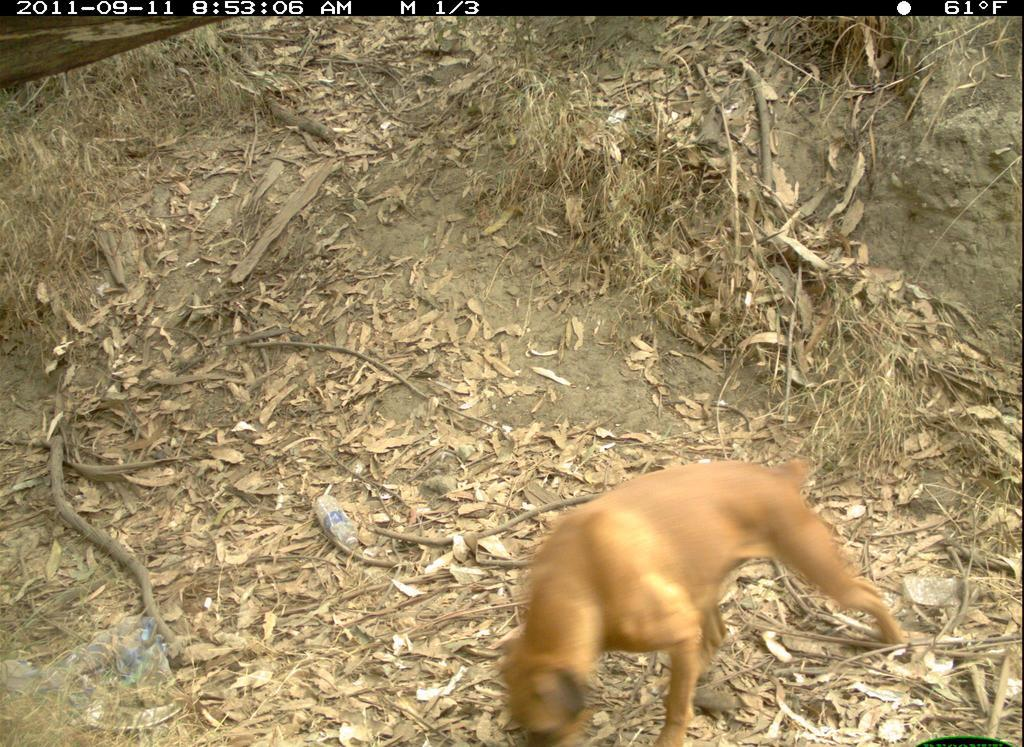dog: (498, 451, 918, 747)
